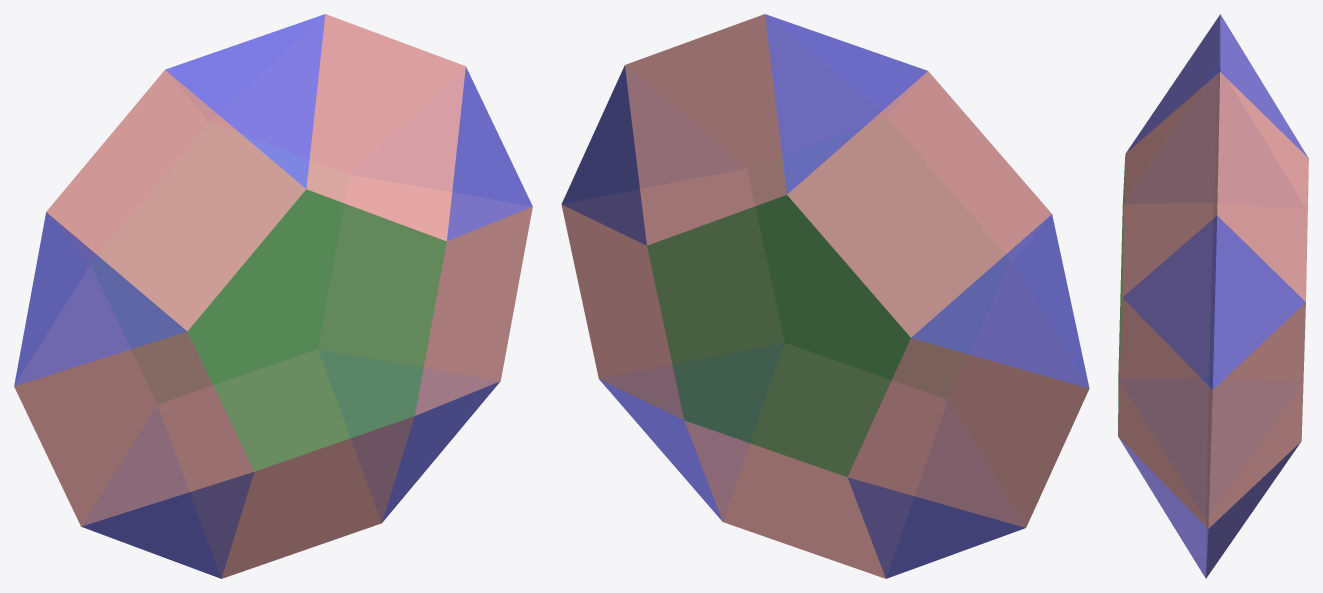
The model's file is j30_pentagonal_orthobicupola.obj.
3 renders of one model, left to right at view 1: azimuth 30°, elevation 25°; view 2: azimuth 150°, elevation 25°; view 3: azimuth 270°, elevation 25°, orthographic. The views are drawn at different scales.
Bounding box in the file's own units: 2.39 × 2.35 × 0.8123.
